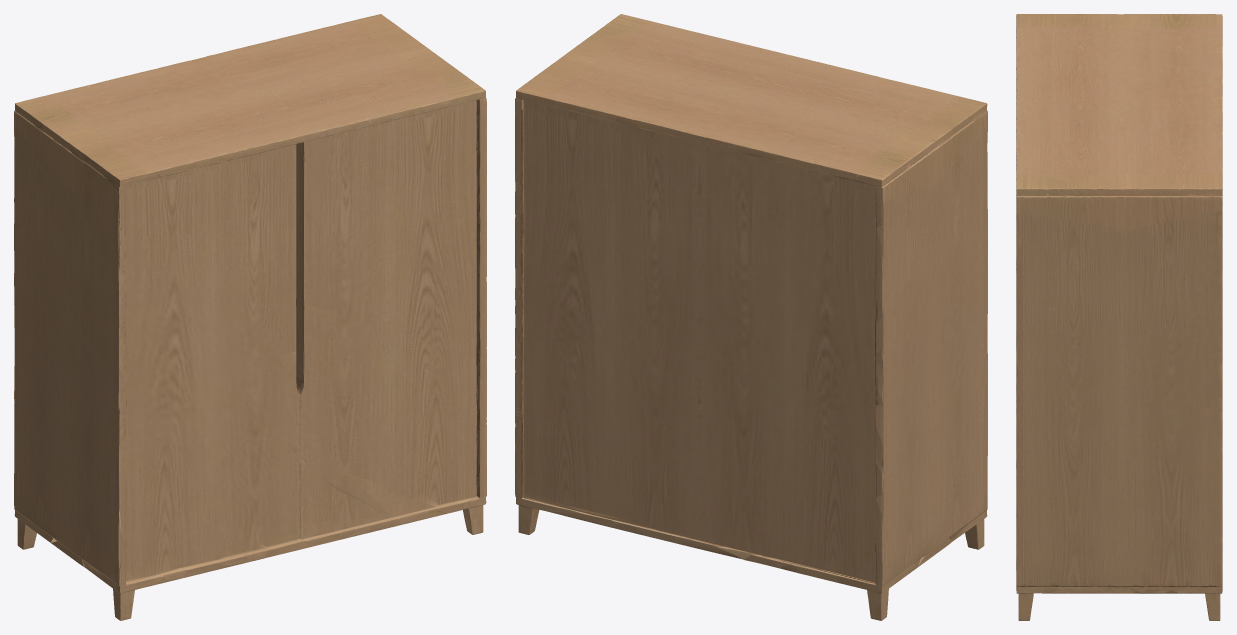
The picture shows the model from 3 angles, left to right: view 1: azimuth 30°, elevation 25°; view 2: azimuth 150°, elevation 25°; view 3: azimuth 270°, elevation 25°; orthographic projection. The views are drawn at different scales.
Parts seen in each view (by area): view 1: Mesh_0; view 2: Mesh_0; view 3: Mesh_0.
Part boxes in pixels (left/top/right/bottom): Mesh_0: left=14, top=14, right=486, bottom=620; Mesh_0: left=515, top=14, right=987, bottom=620; Mesh_0: left=1016, top=14, right=1222, bottom=620.
Size of the model in its own units: 1.61 by 1.85 by 0.7988.
1 material, 1 textured.
